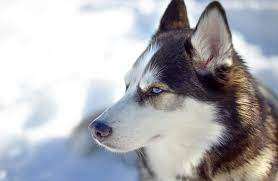Siberian Husky: (78, 3, 275, 181)
